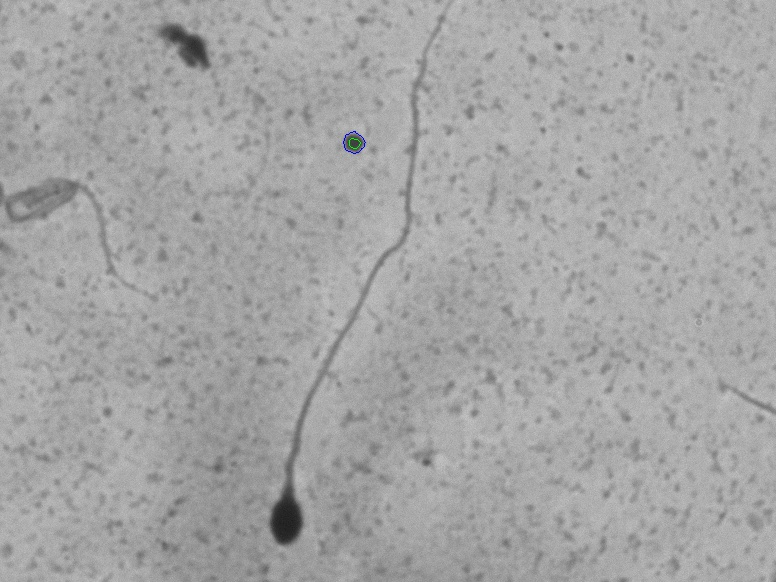Abnormal: (235, 23, 432, 554)
